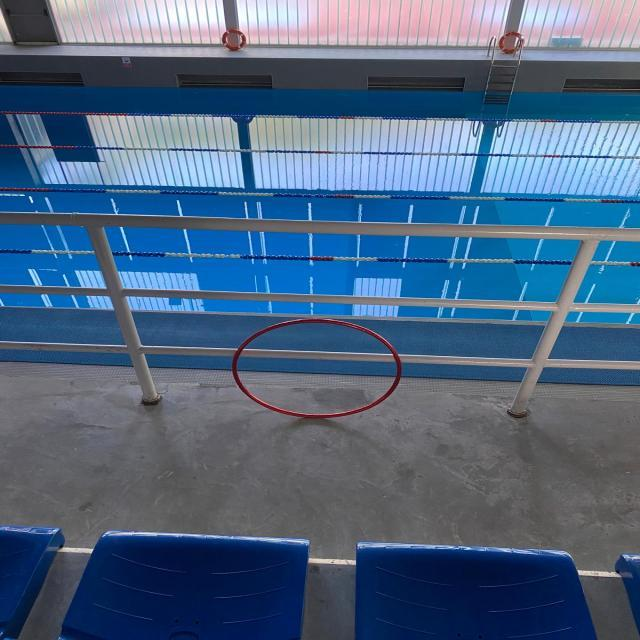Circle: (230, 317, 402, 419)
